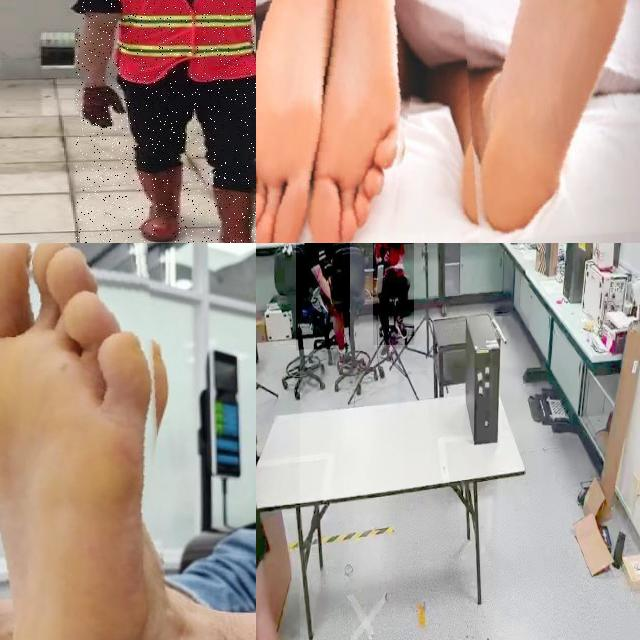Barefoots: (0, 243, 183, 640), (461, 0, 633, 243), (306, 0, 409, 243), (256, 0, 333, 243)
boots: (133, 169, 179, 243), (209, 183, 256, 243)
hand_noglove: (381, 248, 391, 265), (384, 264, 396, 273)
person: (75, 0, 256, 243), (256, 245, 300, 640), (295, 243, 350, 350), (373, 243, 414, 345)
shoes: (393, 312, 411, 342), (379, 333, 397, 363)
vest: (113, 0, 256, 80)
